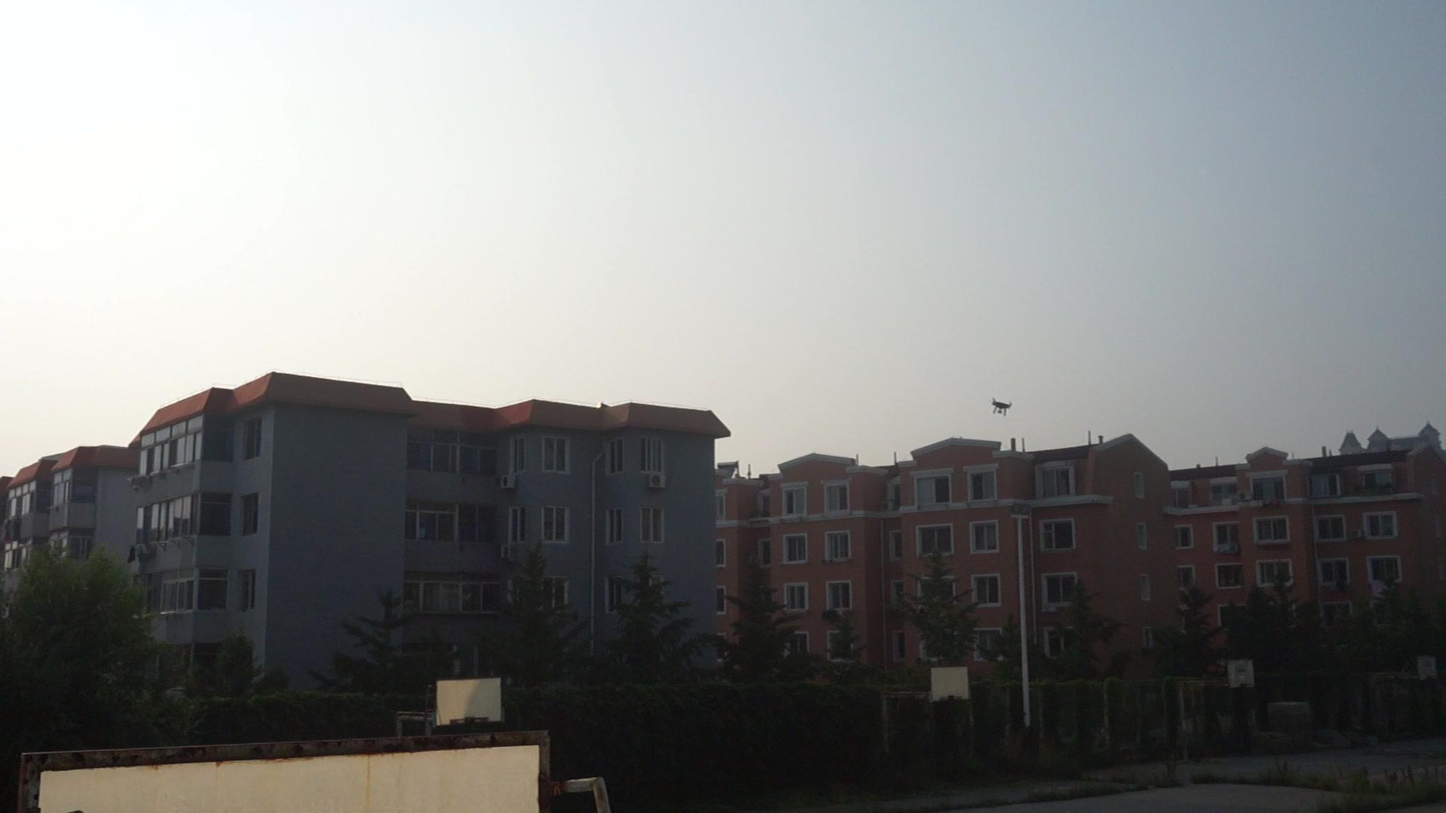UAV: (990, 398, 1013, 417)
